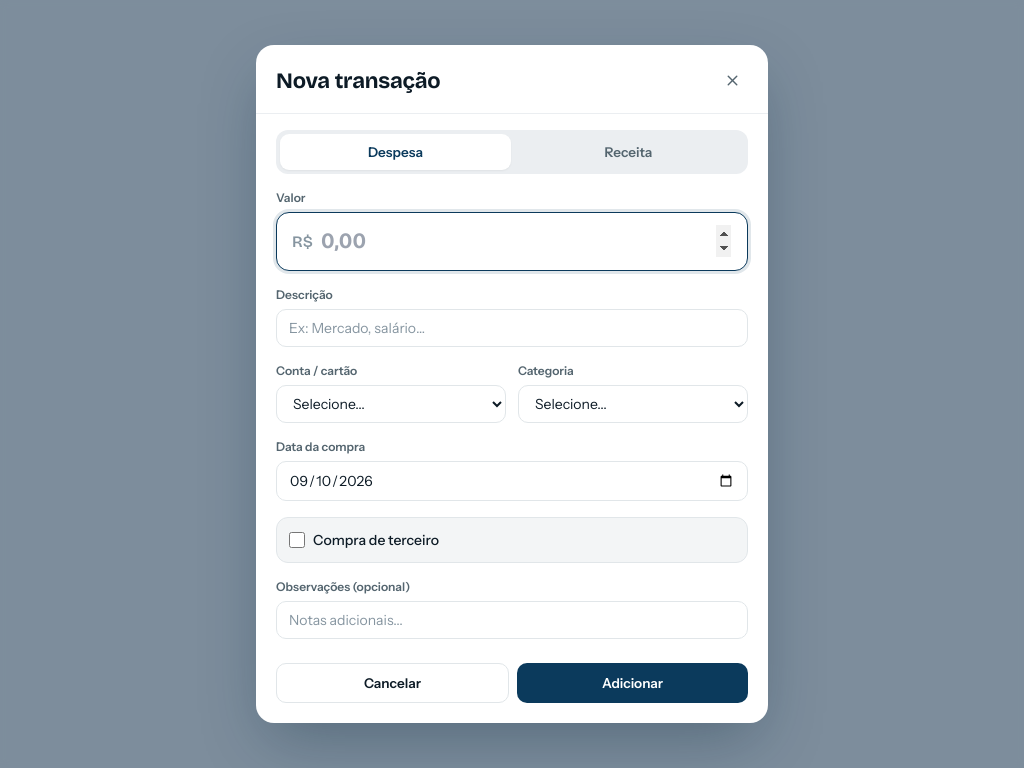
Test: TransactionFormModal › shows mutation error
The width and height of the screenshot is (1024, 768).
Check: the heading "Nova transação" is shown, box [276, 67, 440, 95]
Type "10" into the number field with placeholder "0,00" at (512, 242), box [276, 212, 748, 271]
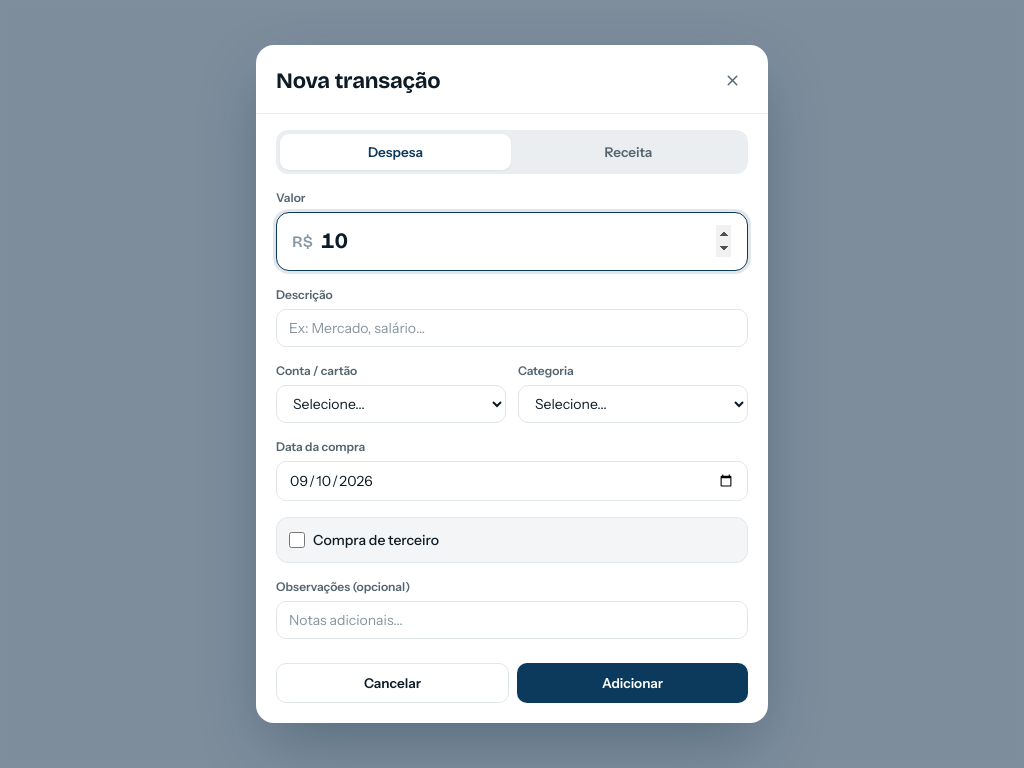
Type "X" into the field labelled "Descrição" at (512, 328), box [276, 309, 748, 347]
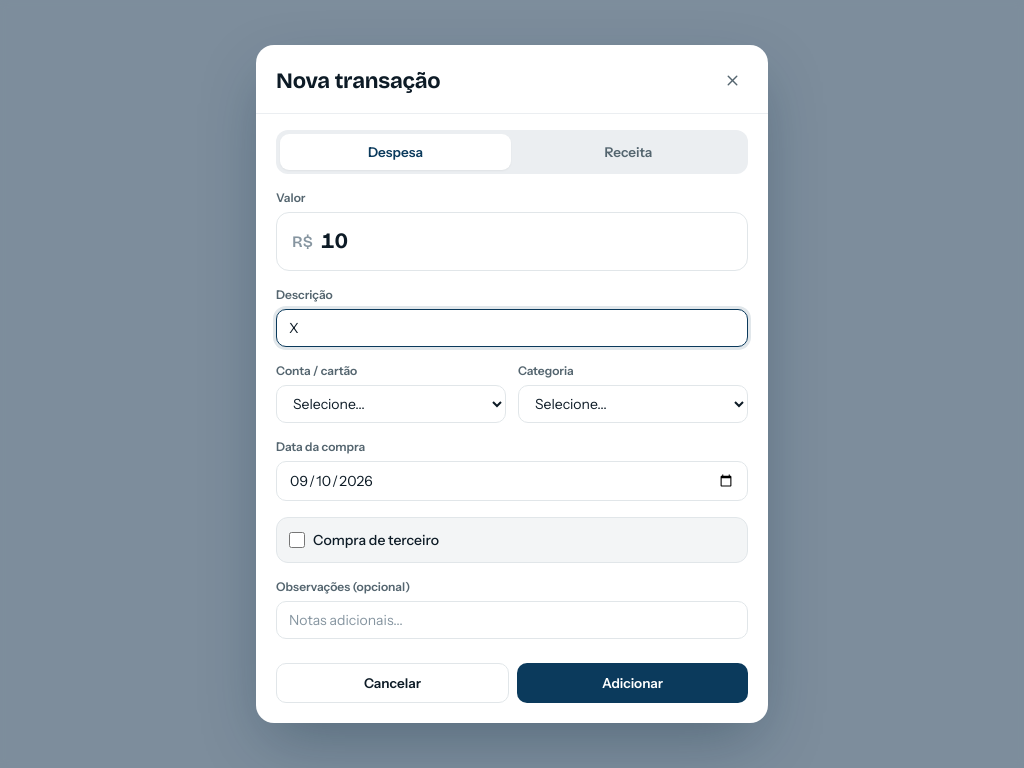
Select "Nubank" in the dropdown labelled "Conta / cartão" at (391, 404), box [276, 385, 506, 423]
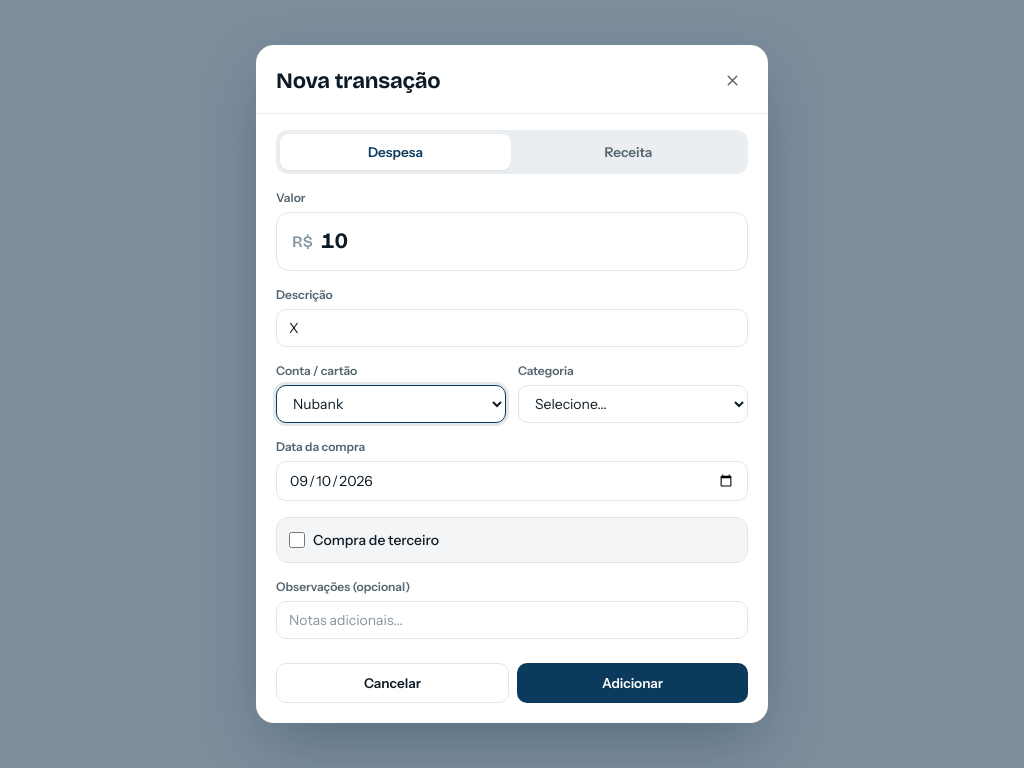
Select "Alimentação" in the dropdown labelled "Categoria" at (633, 404), box [518, 385, 748, 423]
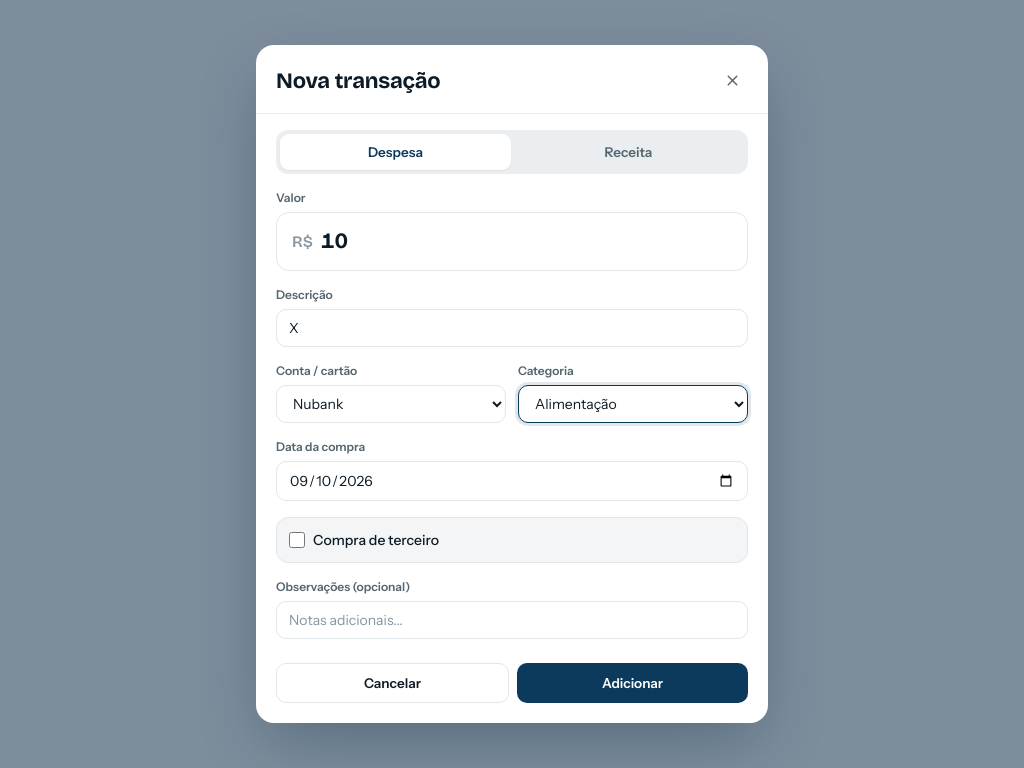
Click the button "Adicionar" at (632, 683), box [517, 663, 748, 703]
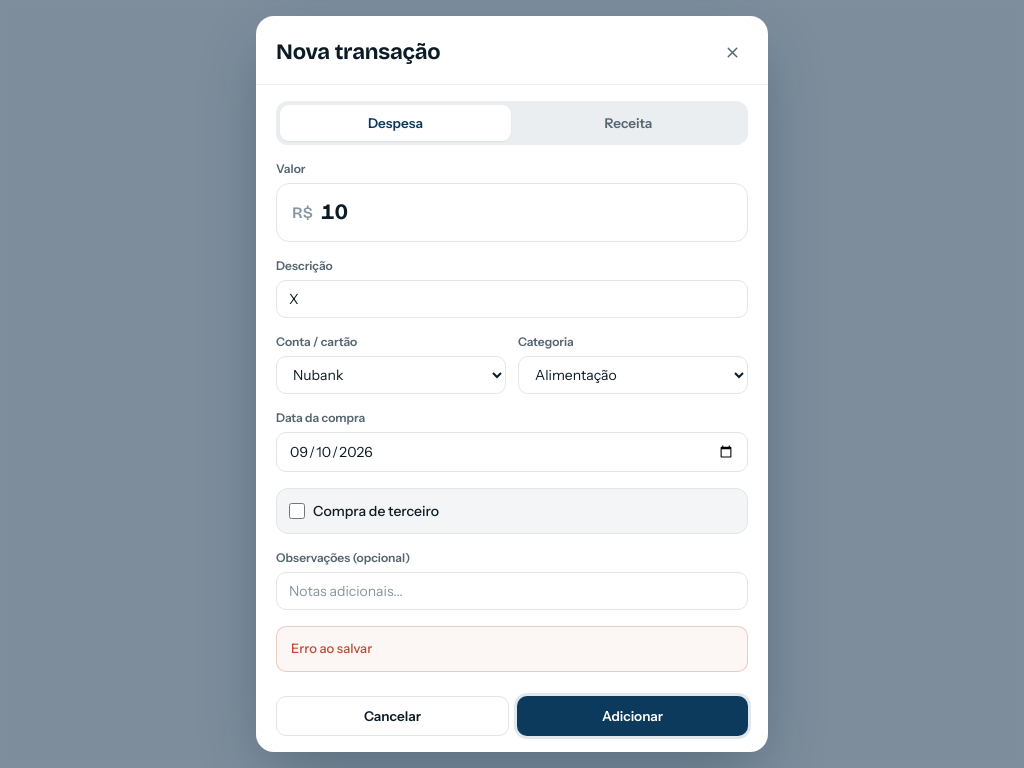
Check: the message reads "Erro ao salvar", box [291, 640, 372, 656]
